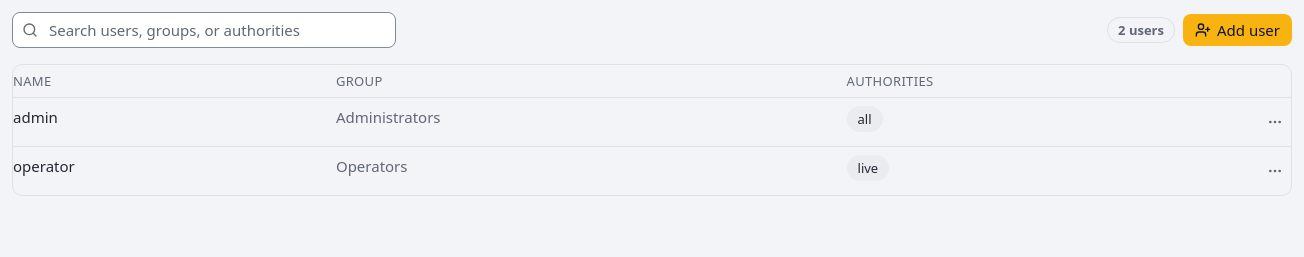
it: DeviceUserSection › shows the add form but hides remove controls when the caller may create but not delete
The width and height of the screenshot is (1304, 257).
Expected: the text "operator" is shown, [13,146,336,195]
Expected: the button "Add user" is shown, [1183,14,1292,46]
…but delete is not, so no per-row Remove control appears.
Press the mouse on the button named "actions: operator" at [1275, 171], box [1259,155,1291,187]
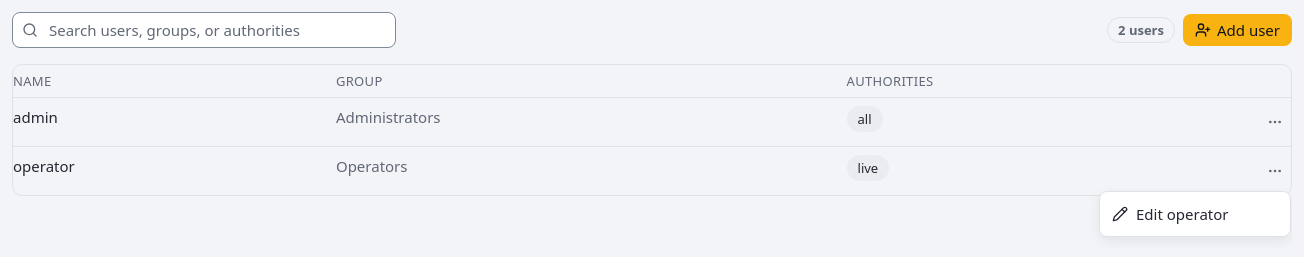
Expected: the menu item "Edit operator" is shown, [1112,204,1228,224]
